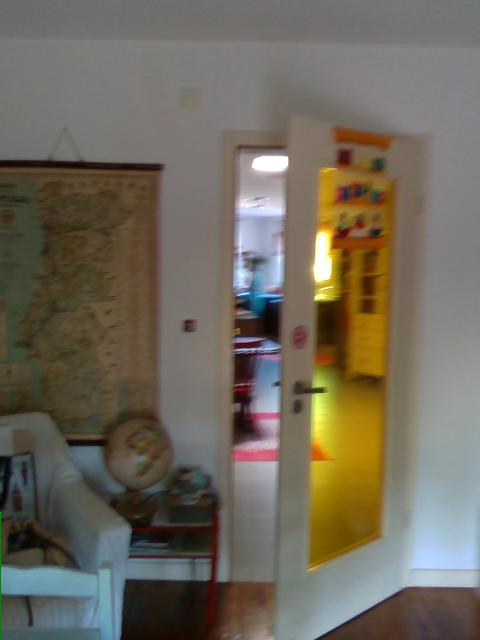semi_door: (212, 106, 430, 639)
